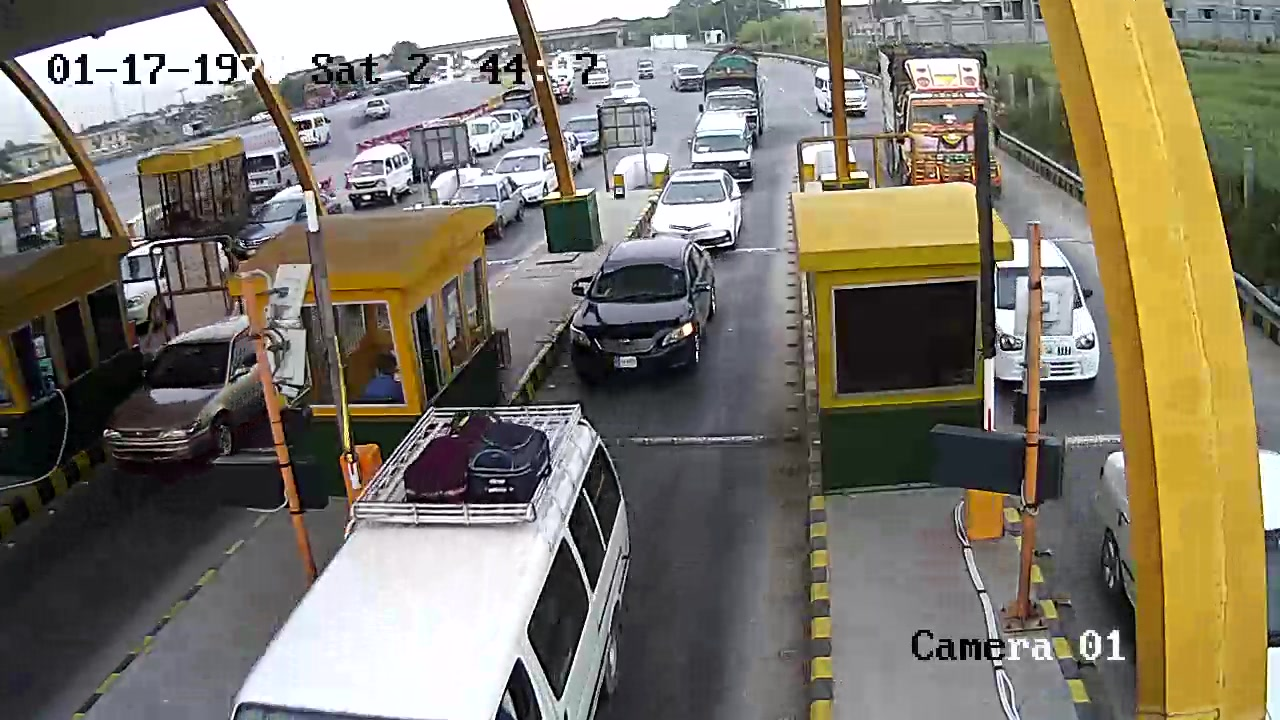F1: (556, 234, 728, 388)
